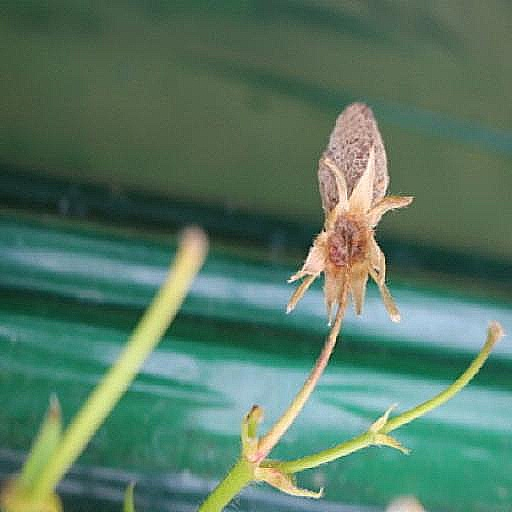Gray Mold: (300, 191, 415, 411)
